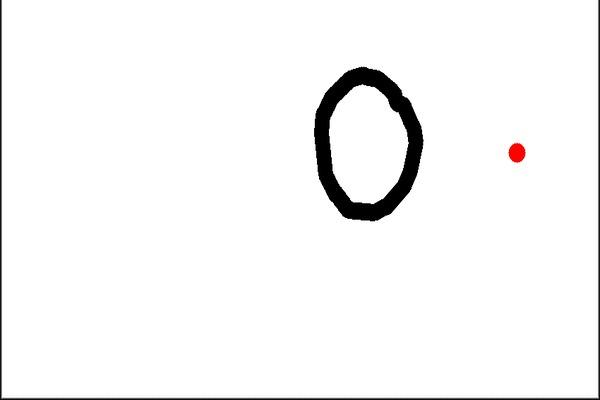O: (299, 63, 435, 222)
